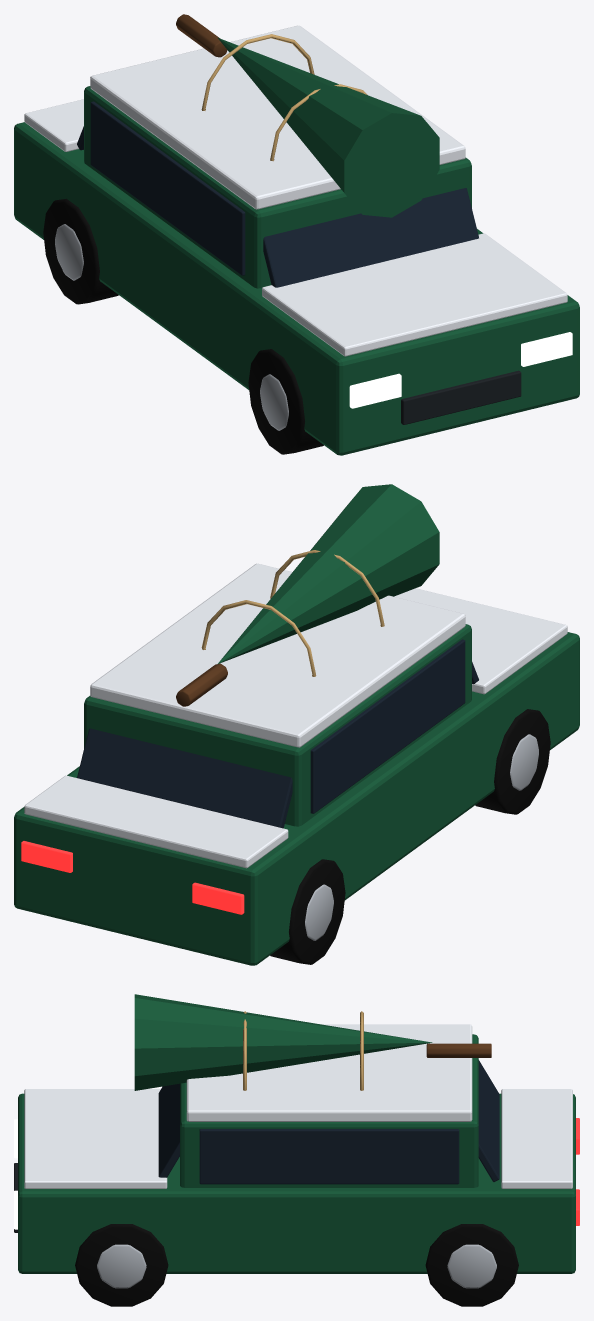
The model's file is car_green.glb.
The picture shows the model from 3 angles, top to bottom: view 1: azimuth 30°, elevation 25°; view 2: azimuth 150°, elevation 25°; view 3: azimuth 270°, elevation 25°; orthographic projection. The views are drawn at different scales.
Visible parts, largest first — view 1: car_green; view 2: car_green; view 3: car_green.
Part boxes in pixels (x1,y1,x2,y2): car_green: (14, 14, 579, 455); car_green: (14, 484, 579, 965); car_green: (14, 994, 579, 1306).
Bounding box in the file's own units: 1.91 × 2.19 × 4.36.
